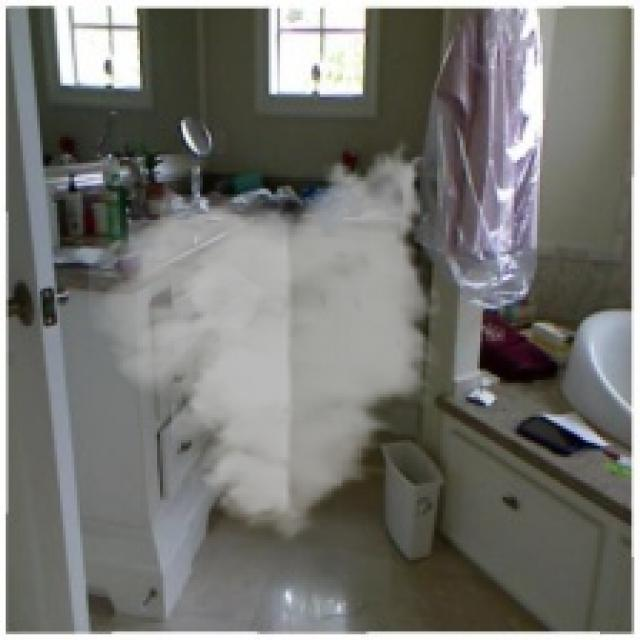smoke: (88, 132, 446, 552)
